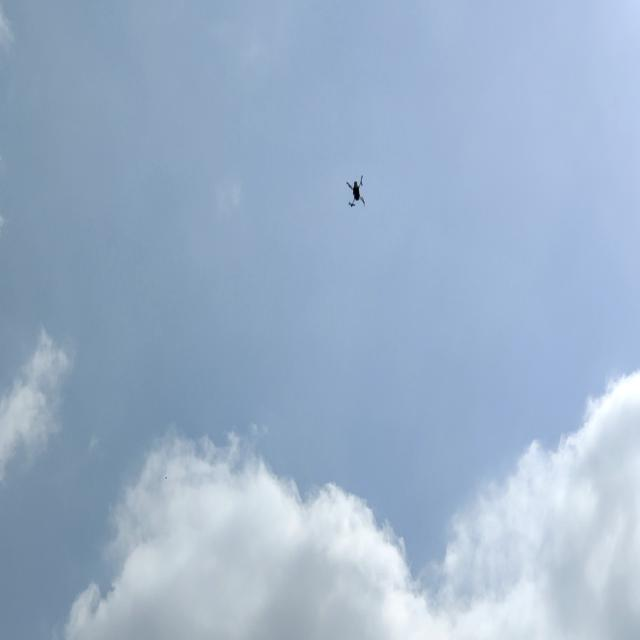drone: (344, 168, 370, 213)
